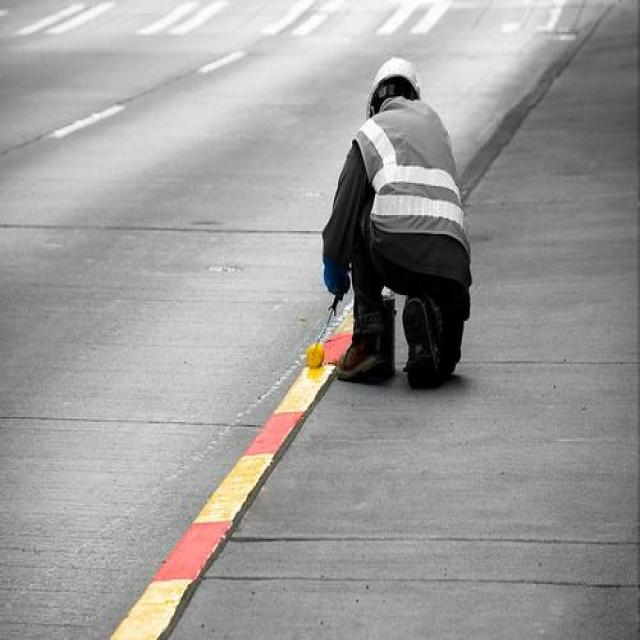Reflective-Jacket: (343, 104, 477, 263)
Safety-Helmet: (361, 46, 425, 98)
